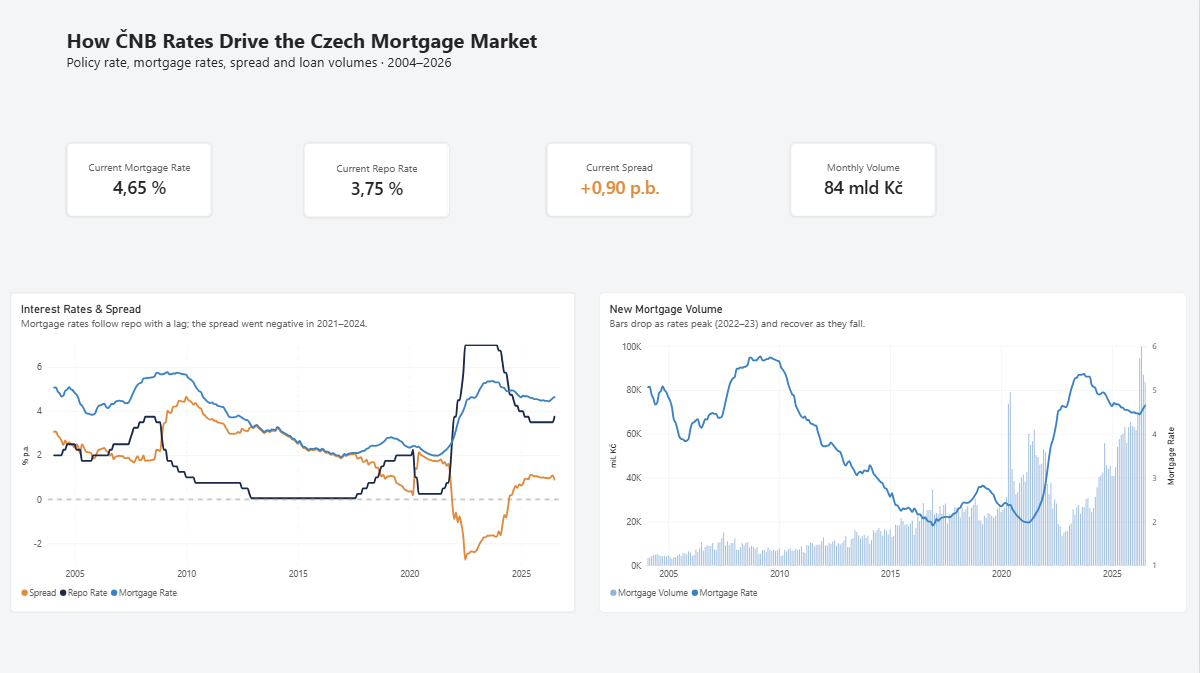

The page's visual inventory and layout, read from the dashboard file:
{"tool":"powerbi","page":{"name":"Page 1","canvas":[1920,1080],"ordinal":0},"visuals":[{"type":"lineChart","title":"Interest Rates & Spread","fields":{"Category":["cnb_spojene.obdobie"],"Y":["cnb_spojene.Marza","cnb_spojene.Repo sazba","cnb_spojene.Hyp. sazba"]},"box":[18.6,468.6,904,512],"z":0},{"type":"lineClusteredColumnComboChart","title":"New Mortgage Volume","fields":{"Category":["cnb_spojene.obdobie"],"Y":["cnb_spojene.Objem hypoték"],"Y2":["cnb_spojene.Hyp. sazba"]},"box":[960,468,940,512],"z":1000},{"type":"cardVisual","fields":{"Data":["cnb_spojene.Aktuální hyp. sazba"]},"box":[107.1,227.1,232.9,118.6],"z":2000},{"type":"cardVisual","fields":{"Data":["cnb_spojene.Aktuální marže"]},"box":[876,228,232.9,118.6],"z":3000},{"type":"cardVisual","fields":{"Data":["cnb_spojene.Aktuální objem (mld Kč)"]},"box":[1266,228,232.9,118.6],"z":4000},{"type":"cardVisual","fields":{"Data":["cnb_spojene.Aktuální repo"]},"box":[488,228,232.9,120],"z":5000},{"type":"textbox","box":[107.5,42.5,797.5,167.5],"z":6000}]}

Visuals, with their boxes in screenshot pixels (x1, y1, x2, y2), scaled from the page's 1920x1080 canvas onto the 1200x673 screenshot:
"Interest Rates & Spread" lineChart: <bbox>12, 292, 577, 611</bbox>
"New Mortgage Volume" lineClusteredColumnComboChart: <bbox>600, 292, 1188, 611</bbox>
cardVisual - cnb_spojene.Aktuální hyp. sazba: <bbox>67, 142, 212, 215</bbox>
cardVisual - cnb_spojene.Aktuální marže: <bbox>548, 142, 693, 216</bbox>
cardVisual - cnb_spojene.Aktuální objem (mld Kč): <bbox>791, 142, 937, 216</bbox>
cardVisual - cnb_spojene.Aktuální repo: <bbox>305, 142, 451, 217</bbox>
textbox: <bbox>67, 26, 566, 131</bbox>
